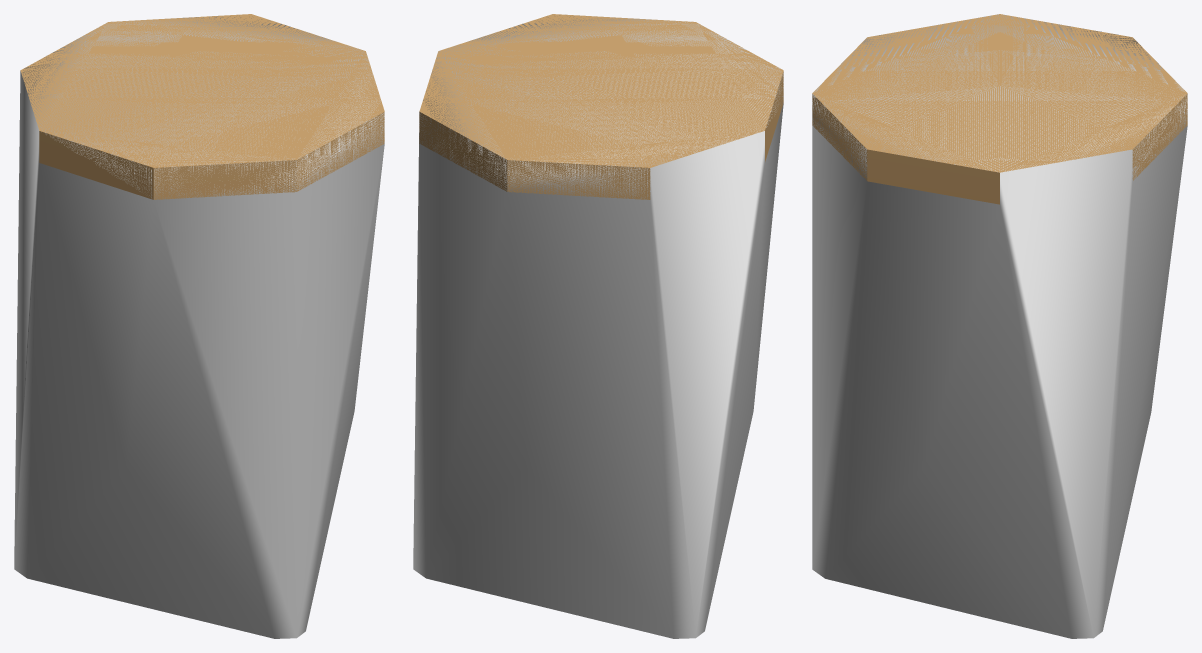
Rendered from SM_BancoMadeiraLp.glb.
3 renders of one model, left to right at view 1: azimuth 30°, elevation 25°; view 2: azimuth 150°, elevation 25°; view 3: azimuth 270°, elevation 25°, orthographic.
Visible parts, largest first — view 1: SM_BancoMadeiraLp_col, SM_BancoMadeiraLp_Mesh; view 2: SM_BancoMadeiraLp_col, SM_BancoMadeiraLp_Mesh; view 3: SM_BancoMadeiraLp_col, SM_BancoMadeiraLp_Mesh.
Part boxes in pixels (x1,y1,x2,y2): SM_BancoMadeiraLp_col: (14,16,384,638); SM_BancoMadeiraLp_Mesh: (20,14,384,199); SM_BancoMadeiraLp_col: (413,15,783,638); SM_BancoMadeiraLp_Mesh: (419,14,783,199); SM_BancoMadeiraLp_col: (812,14,1187,638); SM_BancoMadeiraLp_Mesh: (812,14,1187,204).
Bounding box in the file's own units: 0.32 × 0.45 × 0.32.
2 materials, 2 textured.
